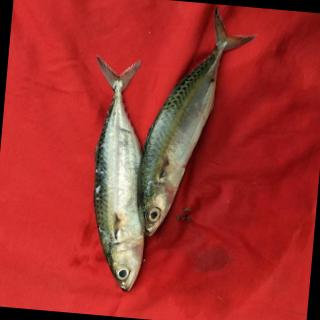Ikan: (55, 1, 265, 311)
